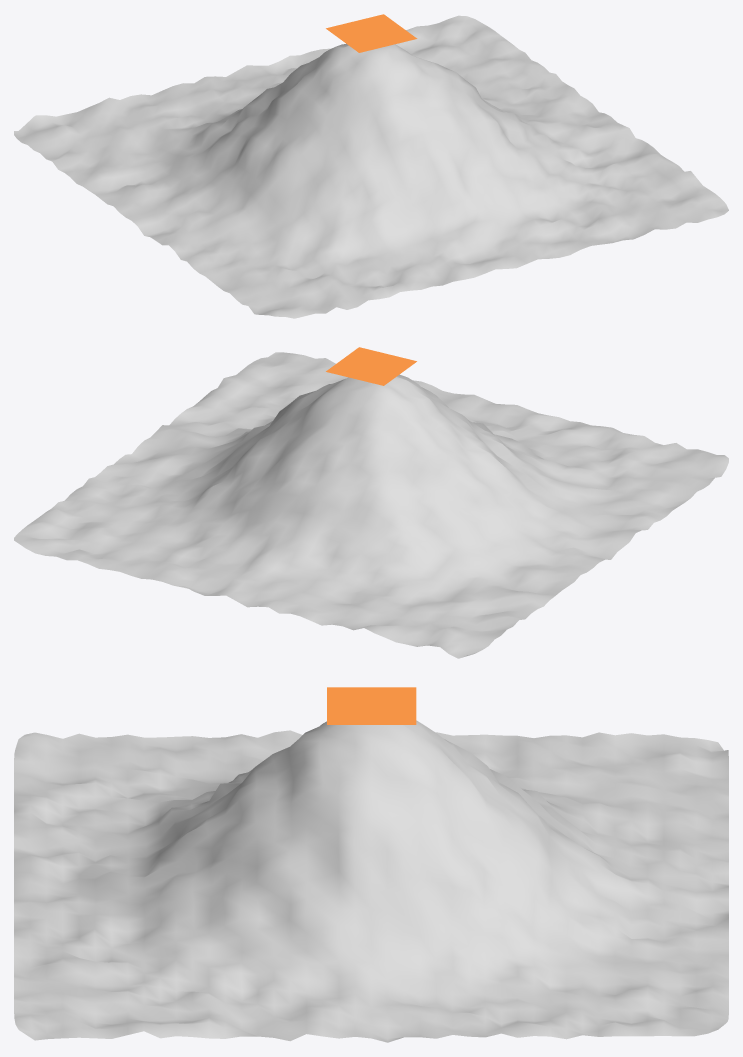
3 renders of one model, top to bottom at view 1: azimuth 30°, elevation 25°; view 2: azimuth 150°, elevation 25°; view 3: azimuth 270°, elevation 25°, orthographic. The views are drawn at different scales.
Visible parts, largest first — view 1: VolcanicMountain, CraterGlow; view 2: VolcanicMountain, CraterGlow; view 3: VolcanicMountain, CraterGlow.
Boxes of the visible parts, x1,y1,x2,y2 form: VolcanicMountain: (14,15,728,318); CraterGlow: (326,14,417,52); VolcanicMountain: (14,352,728,658); CraterGlow: (326,347,416,385); VolcanicMountain: (14,720,728,1042); CraterGlow: (327,687,416,724).
Size of the model in its own units: 20 by 5.82 by 20.
